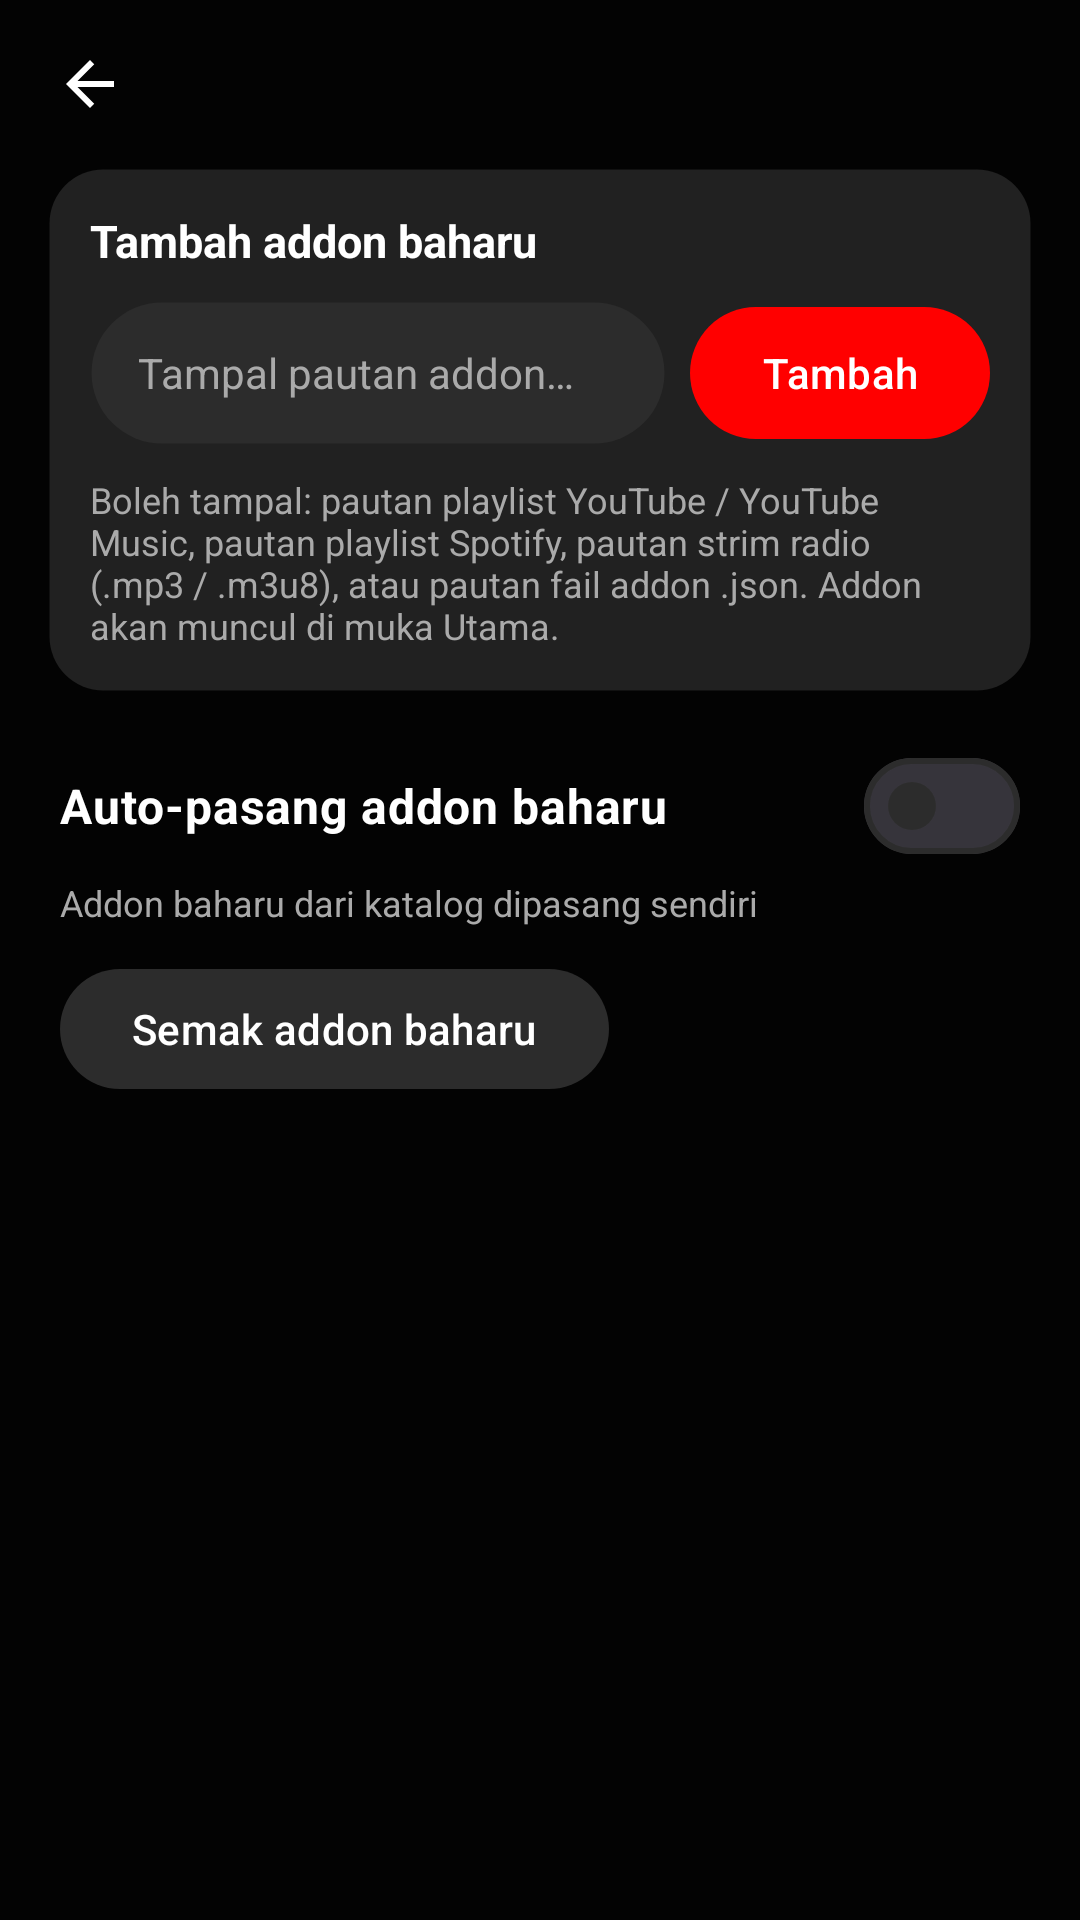

Screen size 1080px x 1920px. Icon name, then its box in pixels as (x1, y1, x2, y2):
back: (66, 60, 114, 108)
